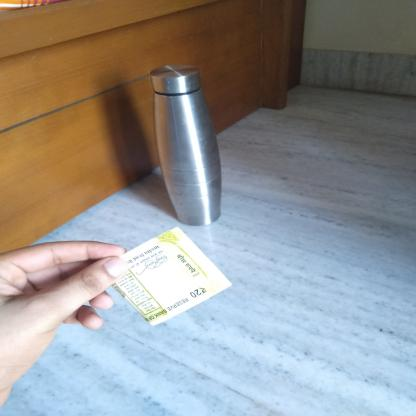New20Back: (106, 228, 221, 326)
